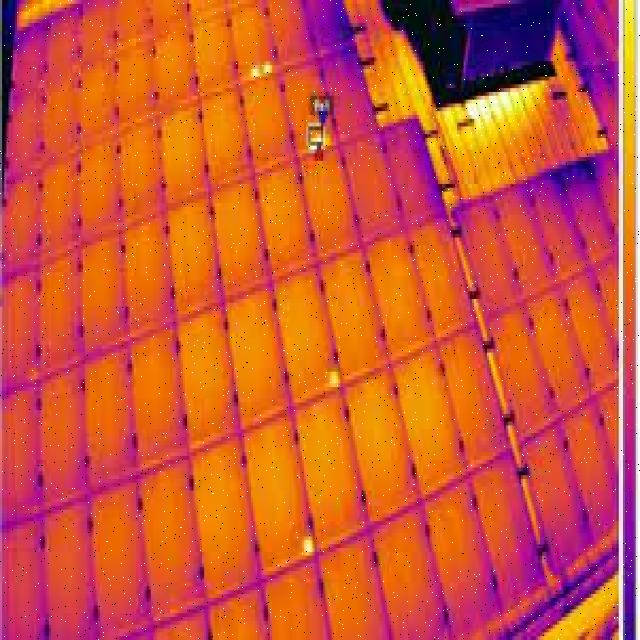Hotspot: (300, 537, 317, 556), (328, 368, 340, 387), (262, 61, 274, 73), (249, 69, 259, 77)
